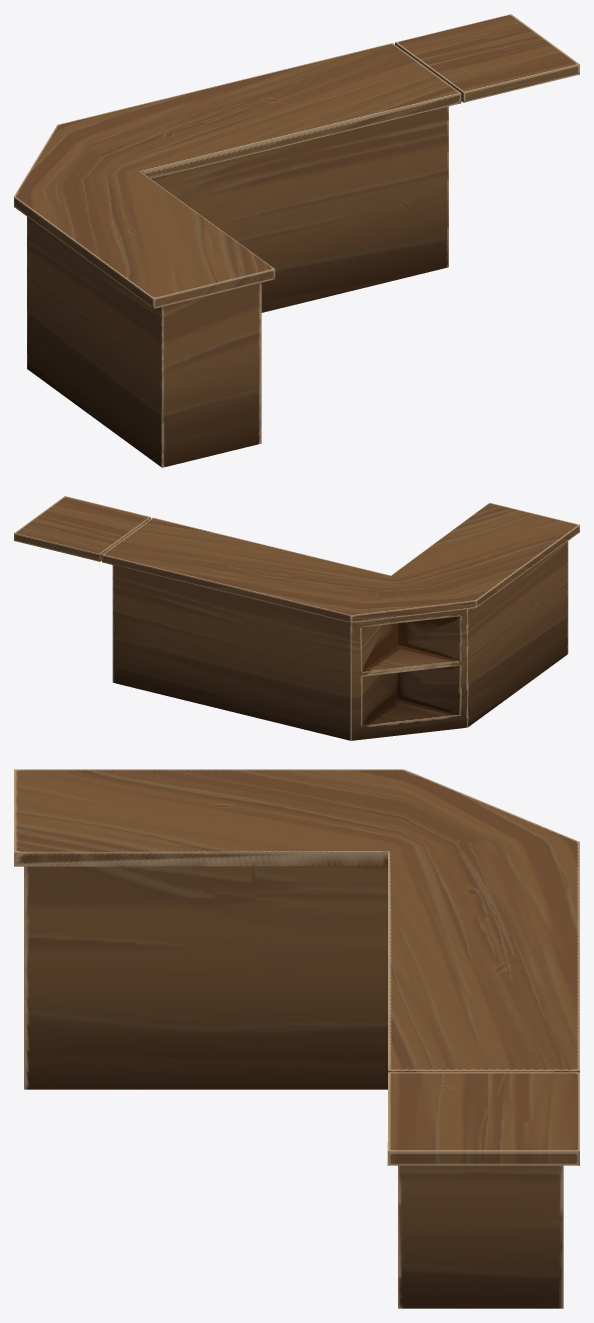
The model's file is Counter.fbx.
3 renders of one model, top to bottom at view 1: azimuth 30°, elevation 25°; view 2: azimuth 150°, elevation 25°; view 3: azimuth 270°, elevation 25°, orthographic. The views are drawn at different scales.
Visible parts, largest first — view 1: counter1; view 2: counter1; view 3: counter1.
Part boxes in pixels (x1,y1,x2,y2): counter1: (14, 14, 579, 467); counter1: (14, 496, 579, 740); counter1: (14, 769, 579, 1308).
Bounding box in the file's own units: 382 × 114 × 239.
Materials: 1 (1 with a texture image).
